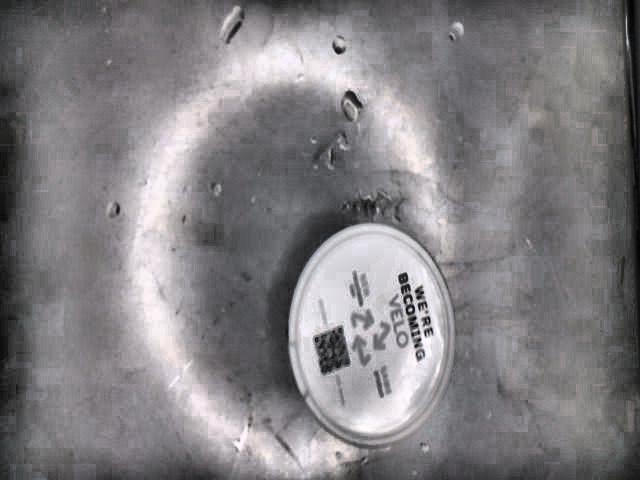Plastic: (285, 222, 455, 451)
